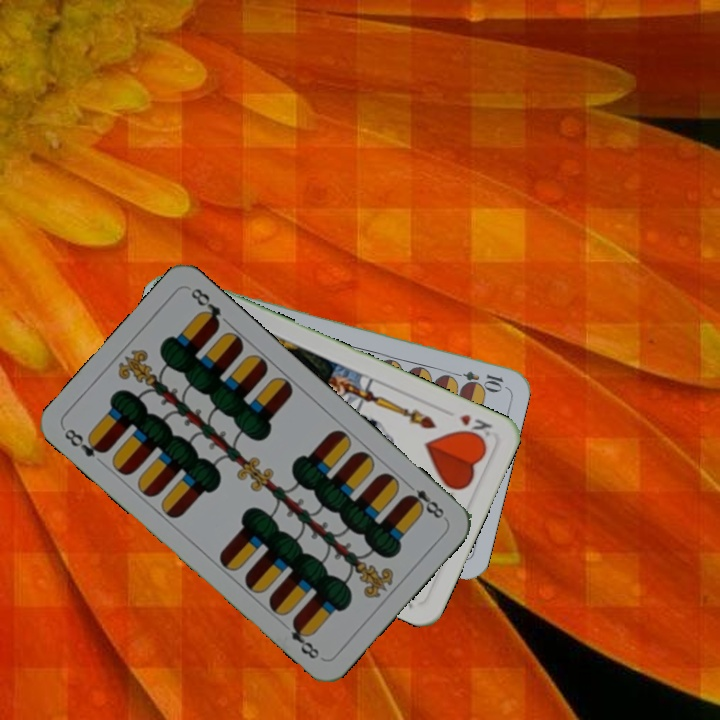E10: (447, 366, 506, 392)
E8: (401, 477, 447, 521), (60, 424, 110, 460)
HK: (455, 410, 495, 444)
